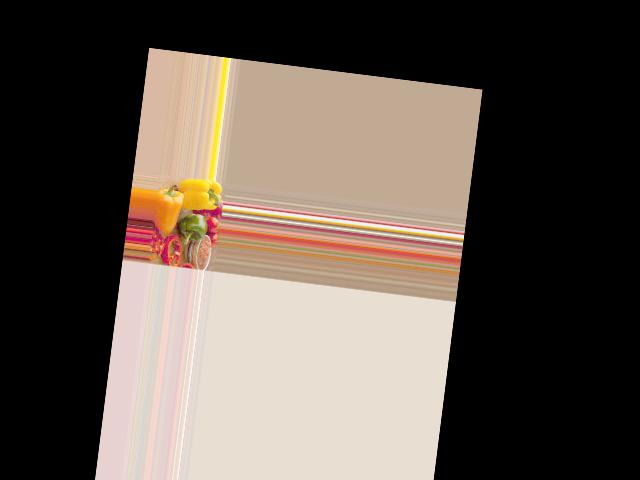bell_pepper: (183, 177, 222, 214)
